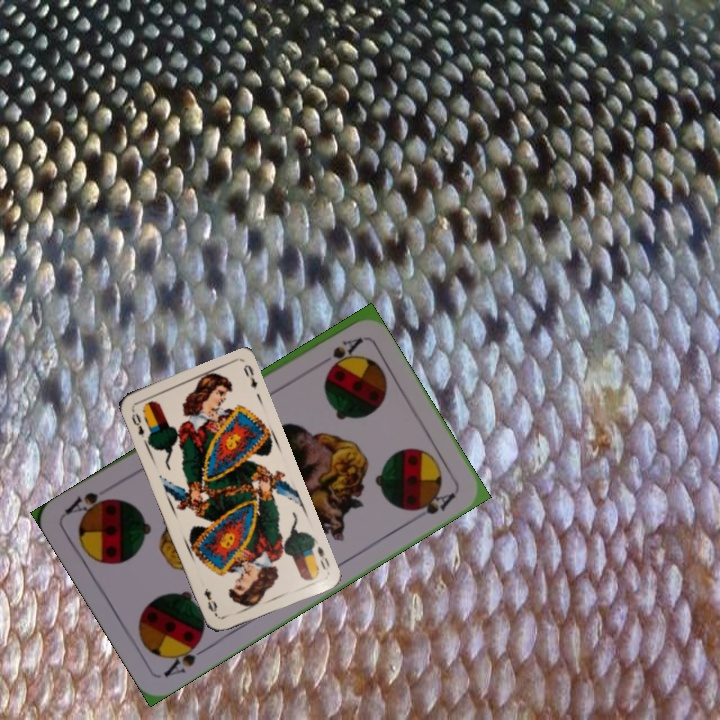EO: (127, 405, 147, 440), (313, 542, 333, 572)
SA: (159, 633, 213, 680), (311, 334, 365, 371)
